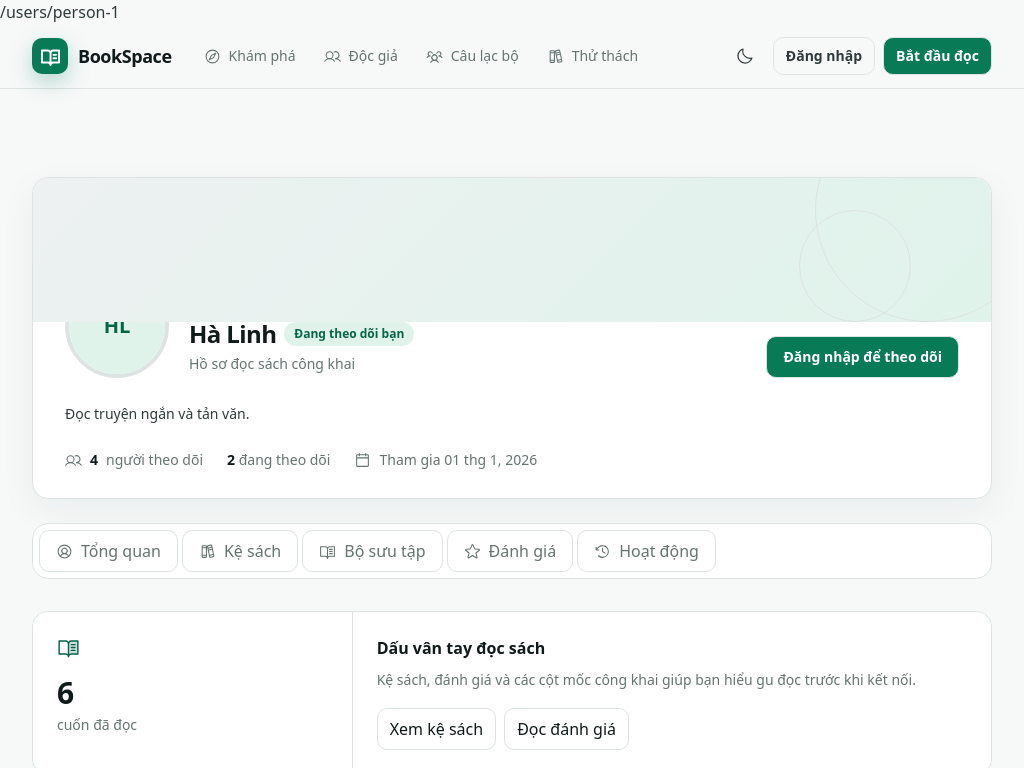
Test: production public profile route › opens the real public shelf tab and renders paginated book data
Step 1. Click the button "Kệ sách" → (240, 551), box [182,530,298,572]
(page scrolled)
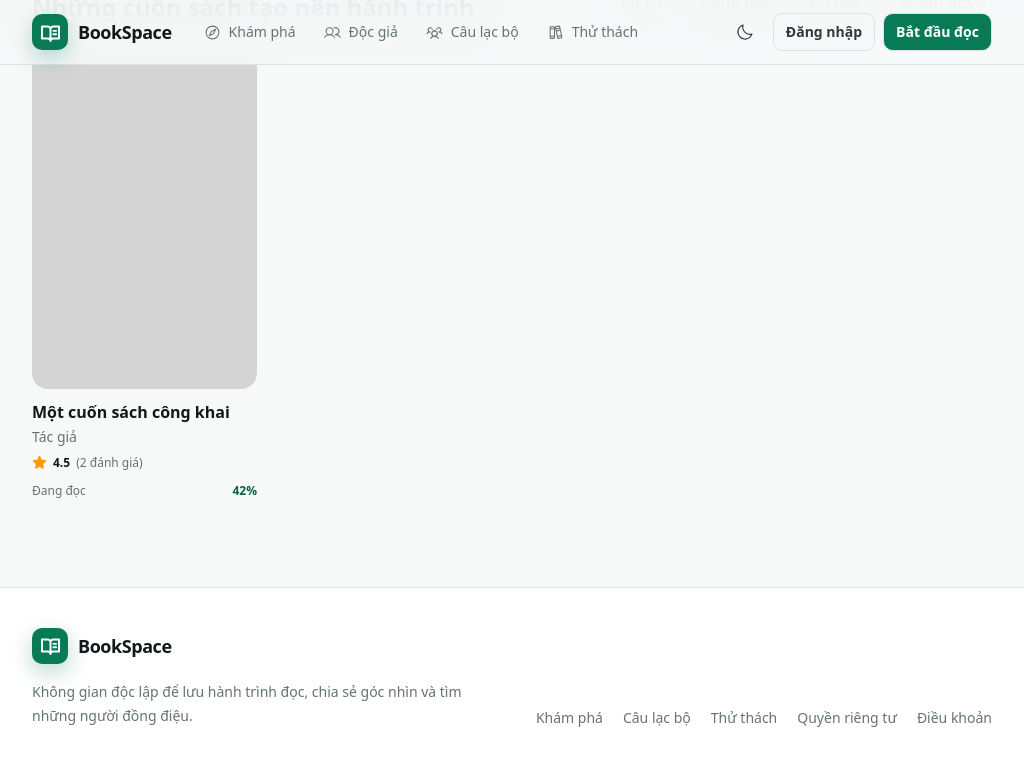
Expected: the heading "Một cuốn sách công khai" is shown, [32,400,257,422]
Expected: the text "42%" is shown, [232,482,257,498]
